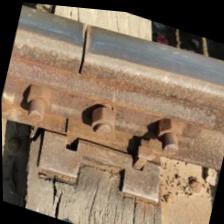person: (36, 3, 134, 98), (52, 109, 81, 138)
